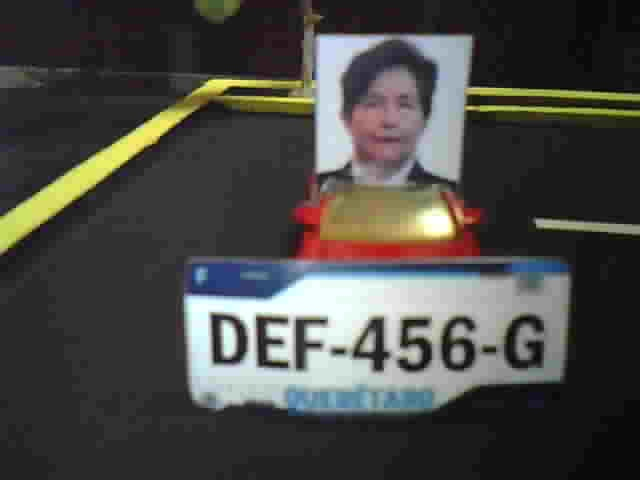PLACA: (180, 255, 578, 418)
ROSTRO: (316, 36, 459, 190)
